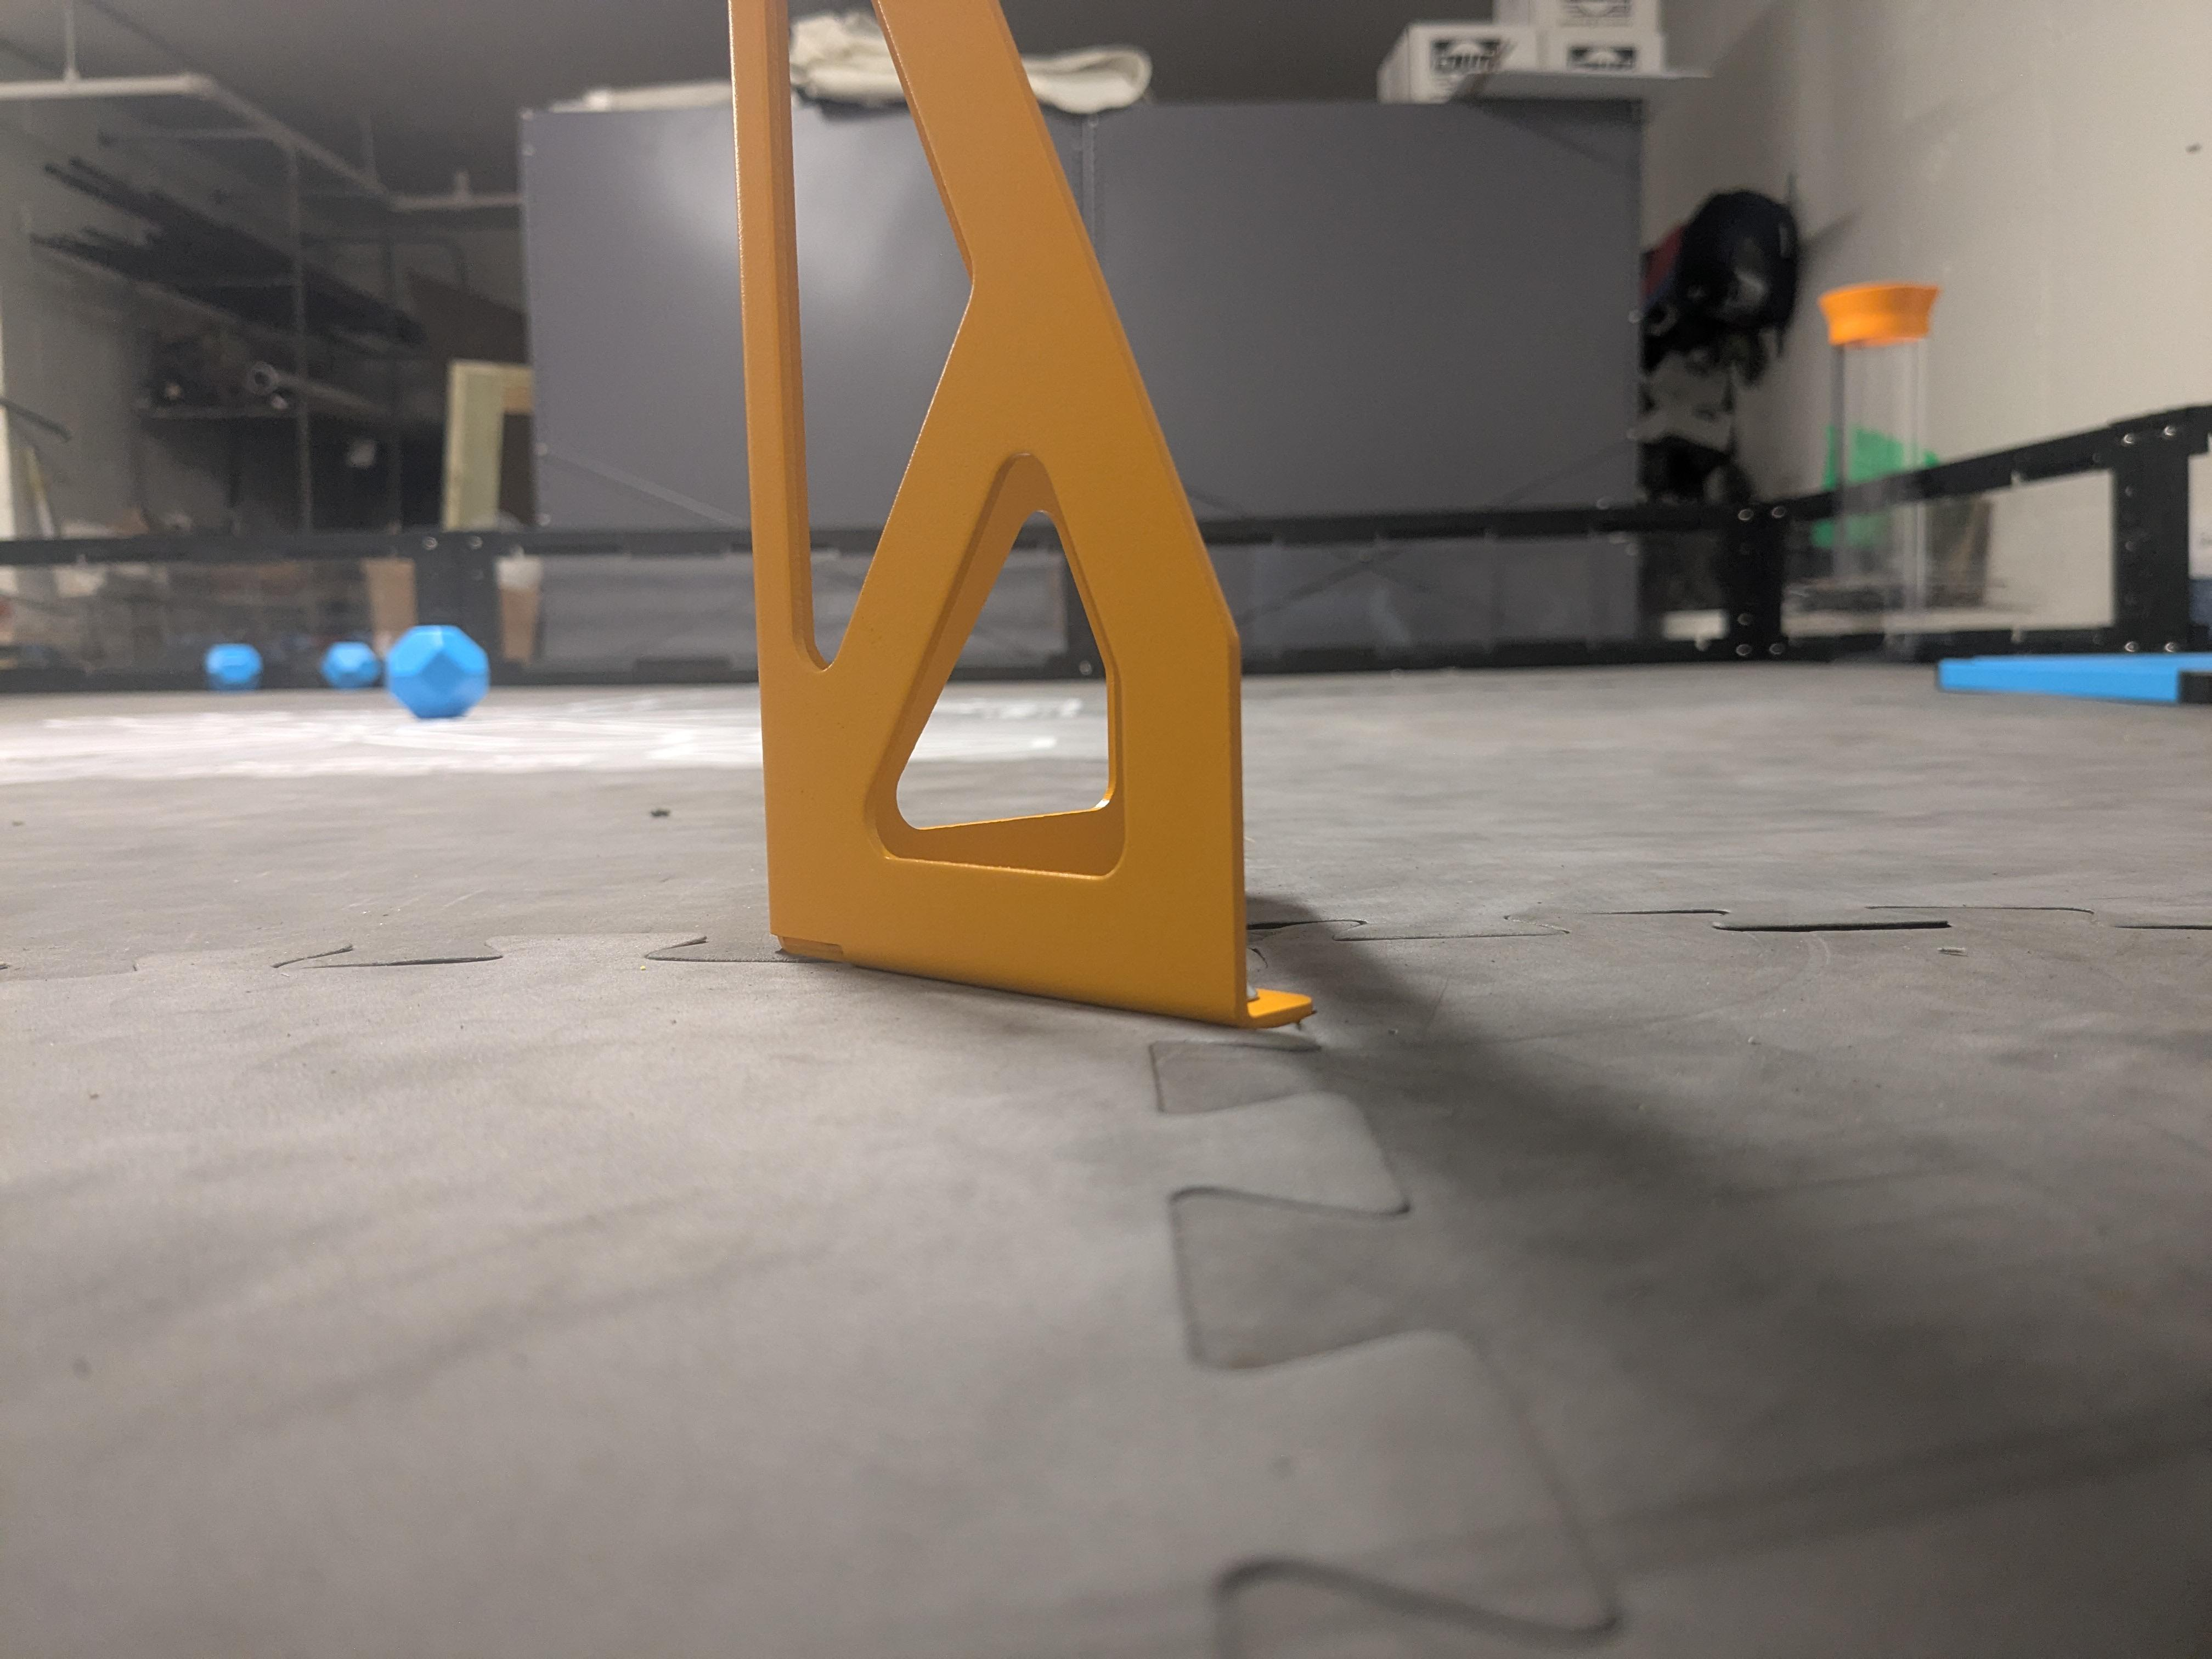Vex-Pieces-BLUE: (387, 627, 491, 718), (320, 641, 381, 690), (204, 643, 261, 690)
